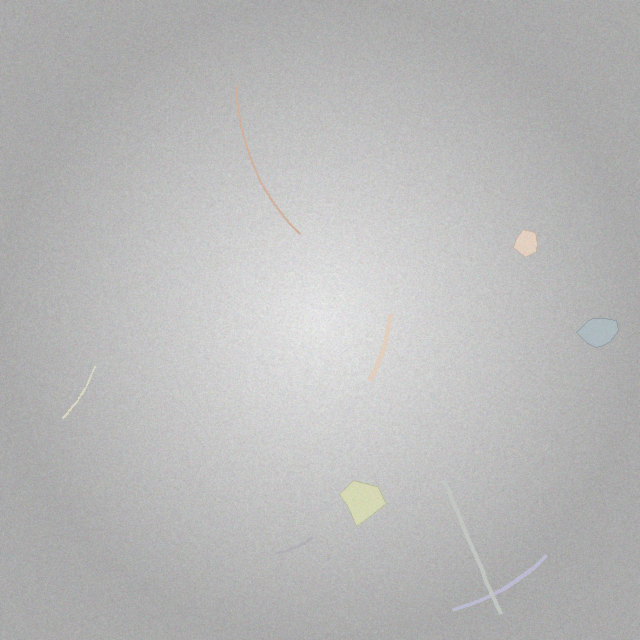fiber: (234, 83, 302, 236), (439, 475, 505, 618), (448, 551, 551, 614), (365, 310, 395, 386), (61, 364, 97, 421), (272, 534, 316, 557)
fragment: (339, 481, 386, 526), (576, 318, 619, 348), (513, 230, 538, 258)
